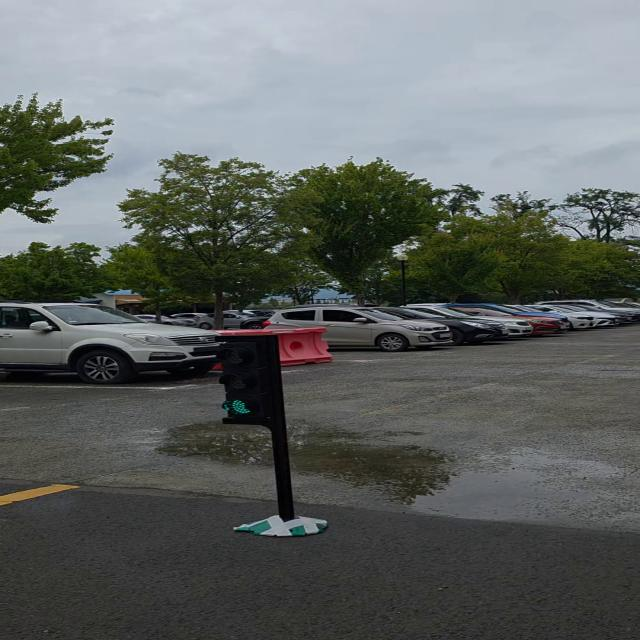green: (218, 337, 286, 423)
